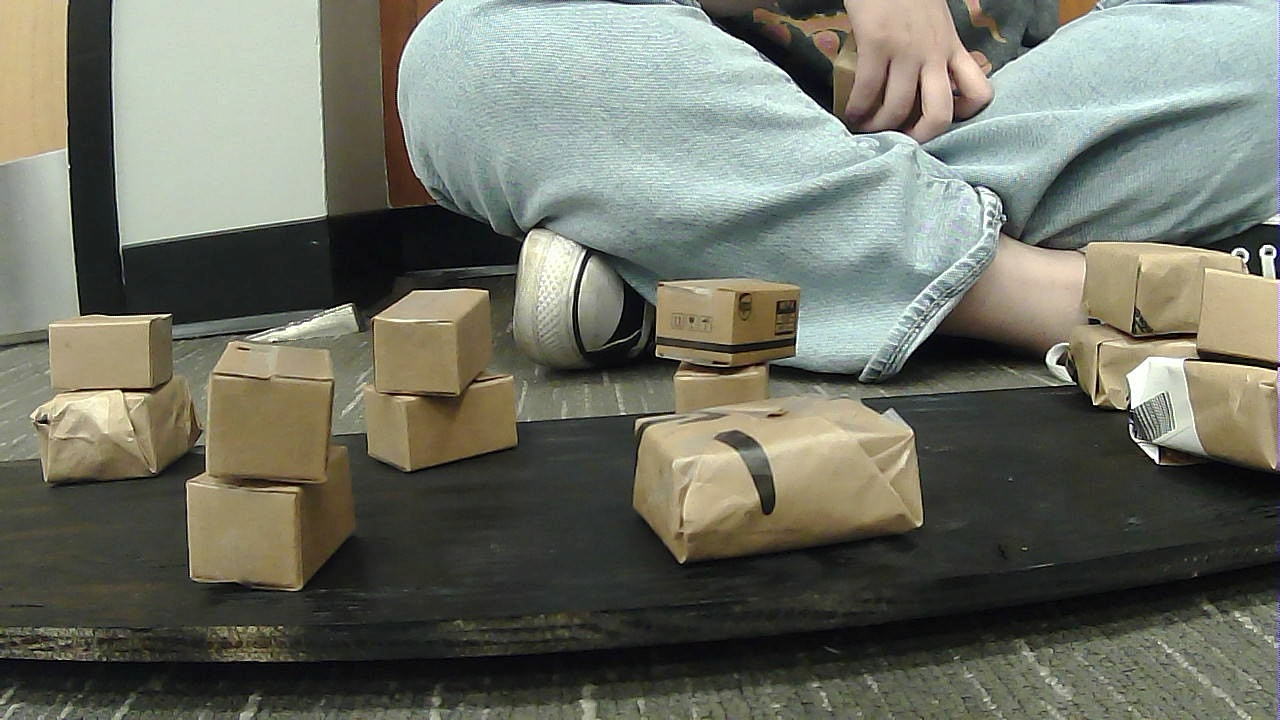package: (628, 392, 933, 546), (187, 467, 349, 587), (1144, 355, 1277, 485), (213, 343, 334, 483), (29, 382, 191, 476), (648, 278, 803, 375), (364, 376, 519, 471), (380, 286, 501, 388), (49, 312, 183, 386), (1076, 335, 1198, 416), (1079, 249, 1198, 329), (1194, 270, 1277, 354), (672, 378, 765, 409)
stacked: (192, 336, 368, 592), (359, 293, 521, 474), (29, 311, 198, 484), (1154, 278, 1274, 476), (1073, 247, 1212, 405), (652, 274, 807, 407)
